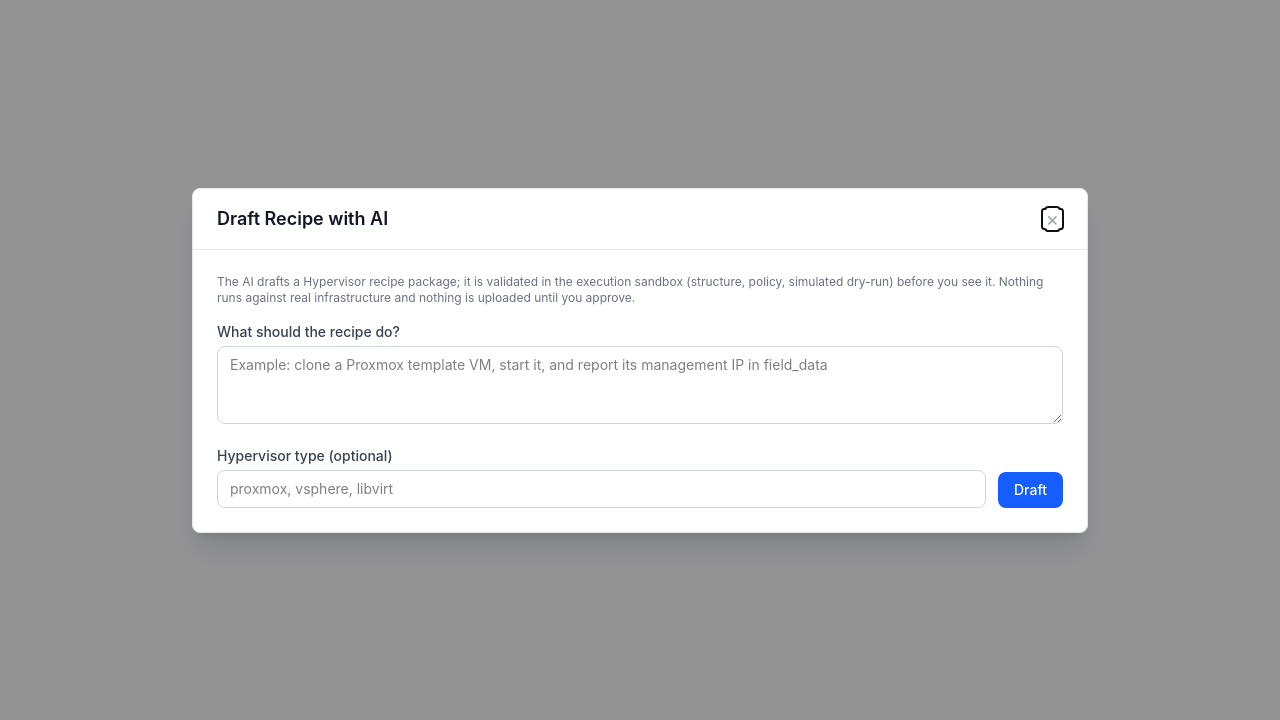
Test: RecipeDraftPanel › blocks approve for a draft that failed validation
Replace the text in the text box labelled "What should the recipe do?" with "clone a proxmox vm": {"x": 640, "y": 384} [217,346,1063,424]
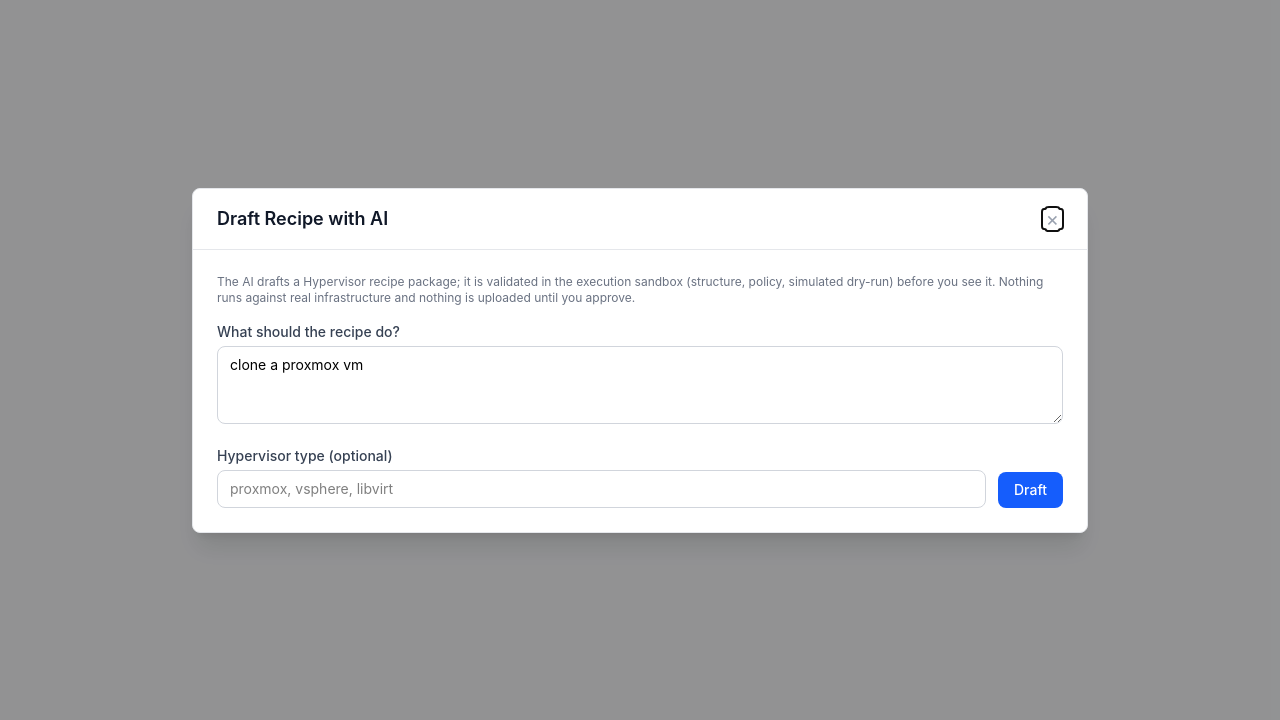
Click the button "Draft": {"x": 1030, "y": 490} [998,472,1063,508]
(page scrolled)
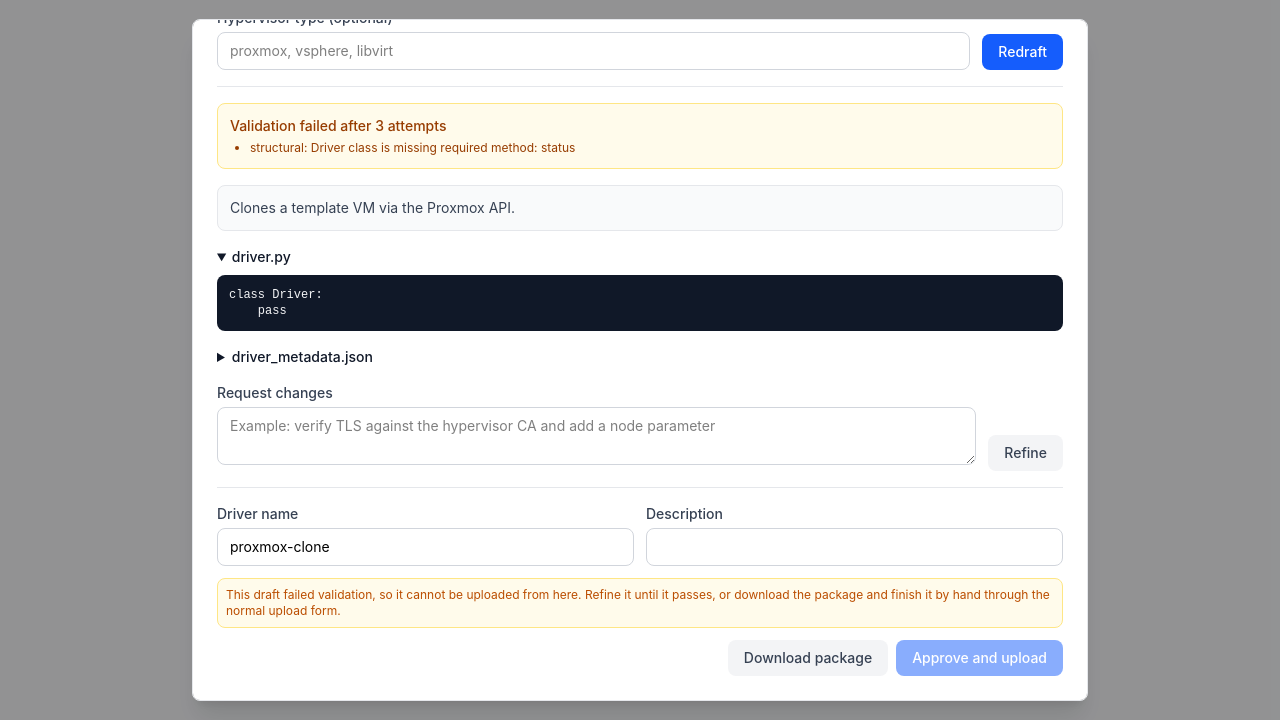
expect the text "Validation failed after 3 attempts" is shown: met, box [230,117,446,134]
expect the list item "structural: Driver class is missing required method: status" is shown: met, box [250,140,575,155]
expect the button "Approve and upload" is disabled: met, box [896,640,1063,676]
